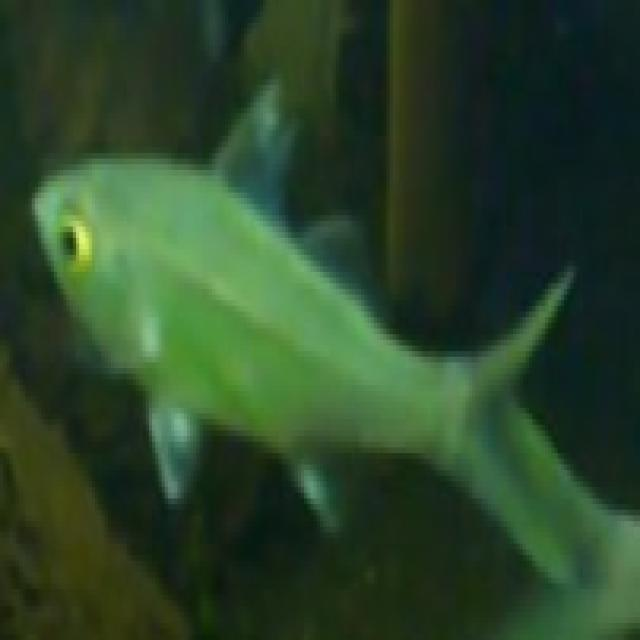Glass-Perchlet: (19, 44, 604, 582)
